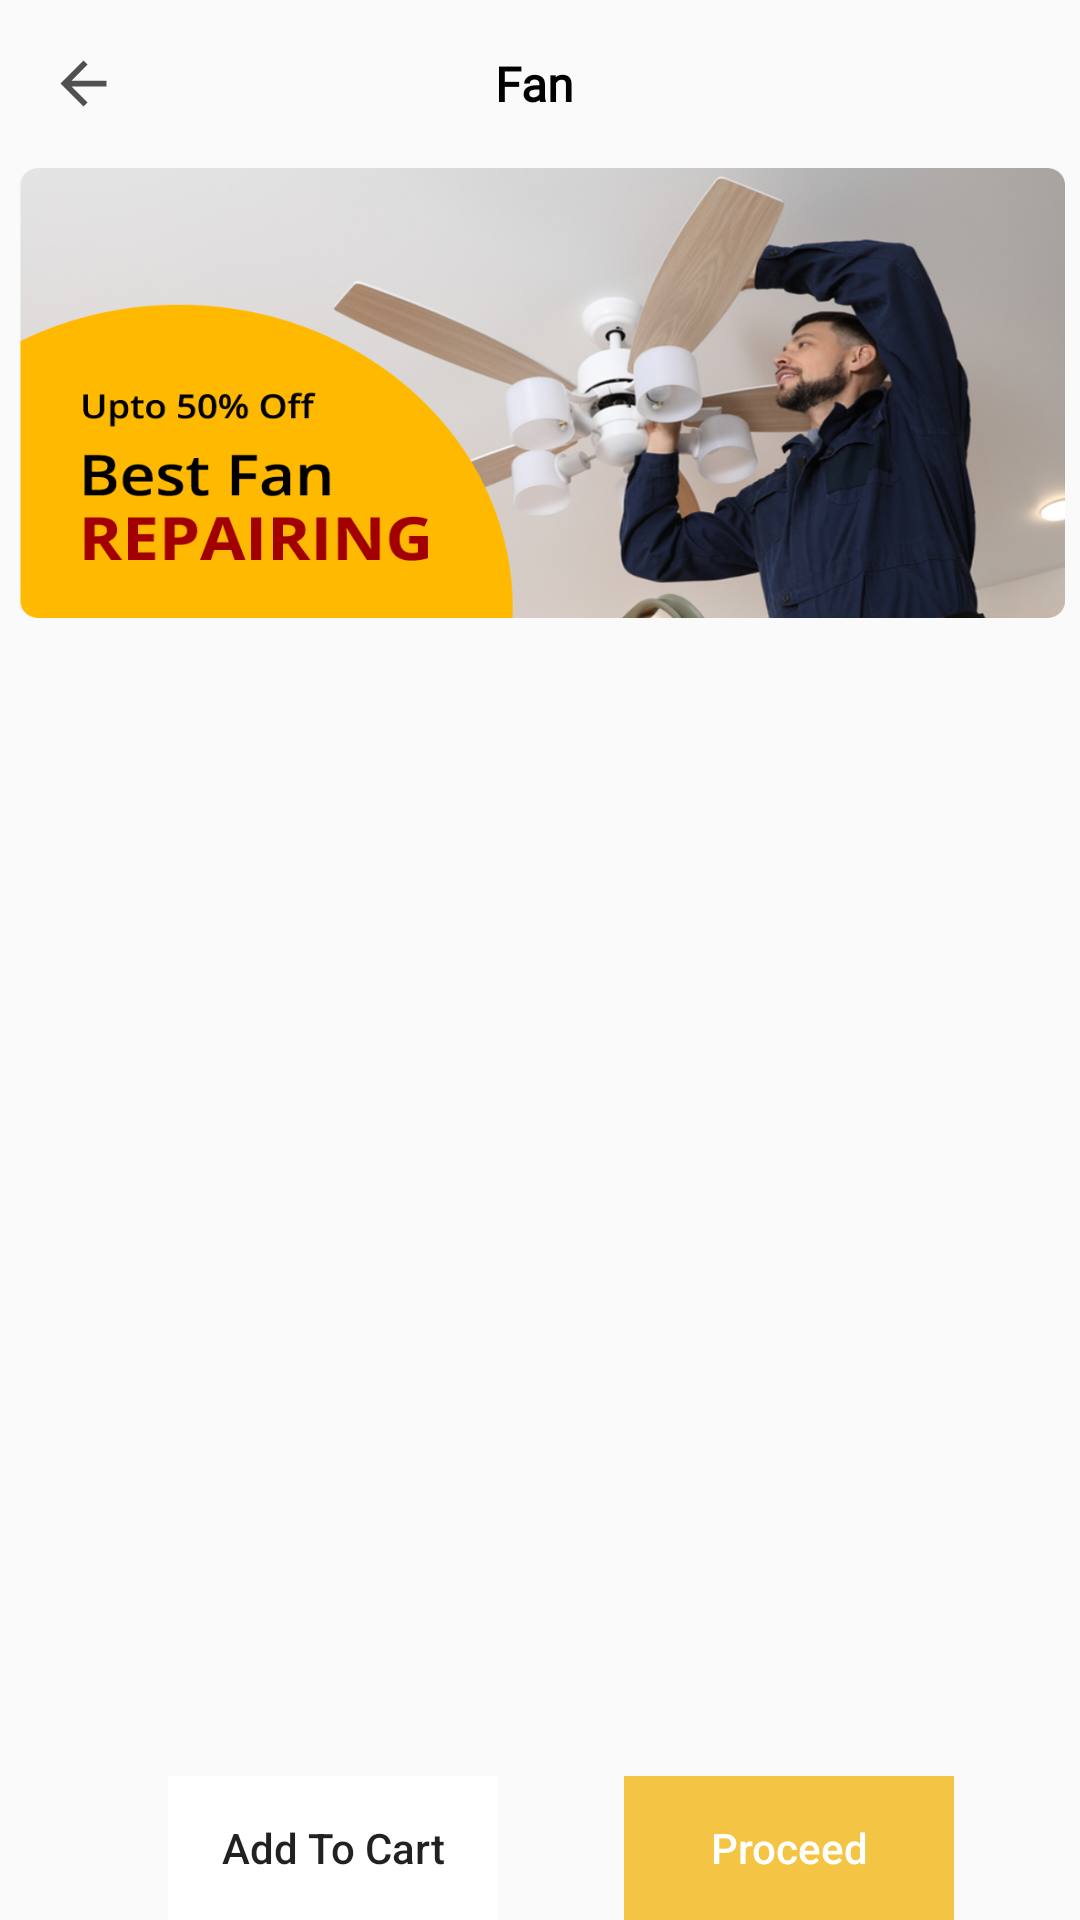

Named icons in this screenshot (1080x1920) and their bounding boxes, [left=x1, top=y1, right=x2, bottom=y2]:
back arrow: [left=60, top=60, right=107, bottom=107]
